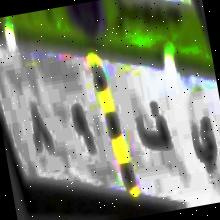8: (25, 96, 56, 164)
9: (66, 98, 99, 156)
faa: (134, 100, 173, 157)
yaa: (185, 103, 220, 181)
